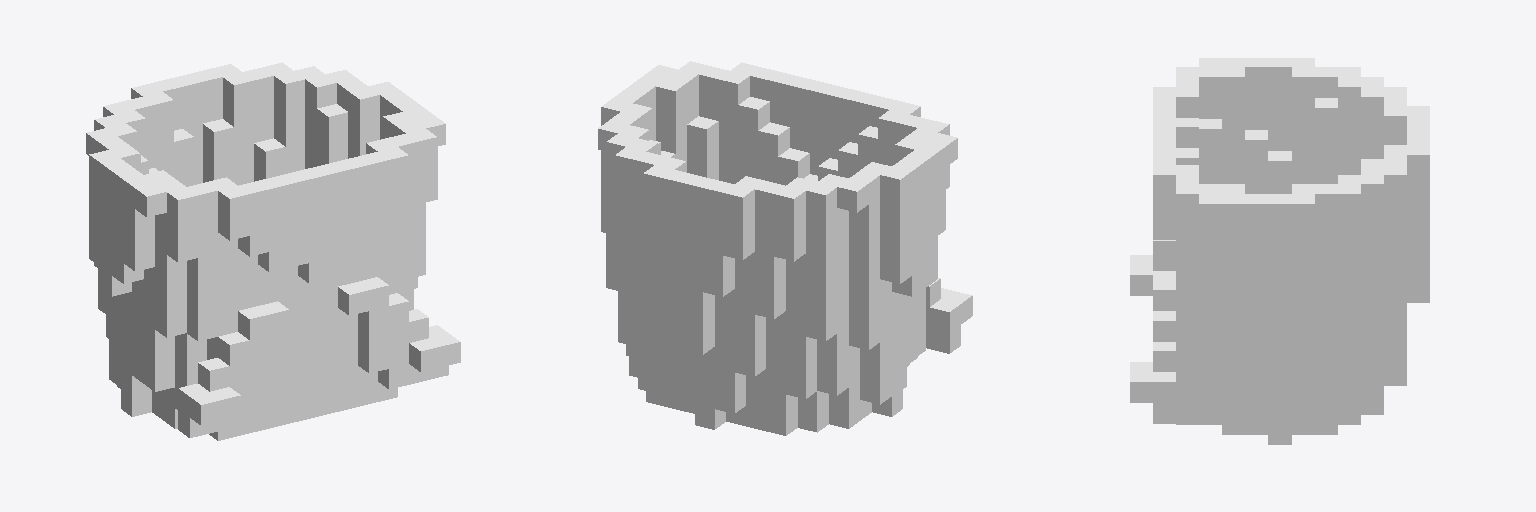
Rendered from kelpietail2.obj.
3 renders of one model, left to right at view 1: azimuth 30°, elevation 25°; view 2: azimuth 150°, elevation 25°; view 3: azimuth 270°, elevation 25°, orthographic.
Parts seen in each view (by area): view 1: kelpietail; view 2: kelpietail; view 3: kelpietail.
Boxes of the visible parts, x1=… form: kelpietail: x1=86, y1=62, x2=460, y2=440; kelpietail: x1=598, y1=61, x2=972, y2=435; kelpietail: x1=1130, y1=58, x2=1429, y2=444.
Bounding box in the file's own units: 15 × 12 × 13.